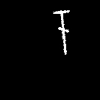double_crochet: (54, 11, 68, 54)
